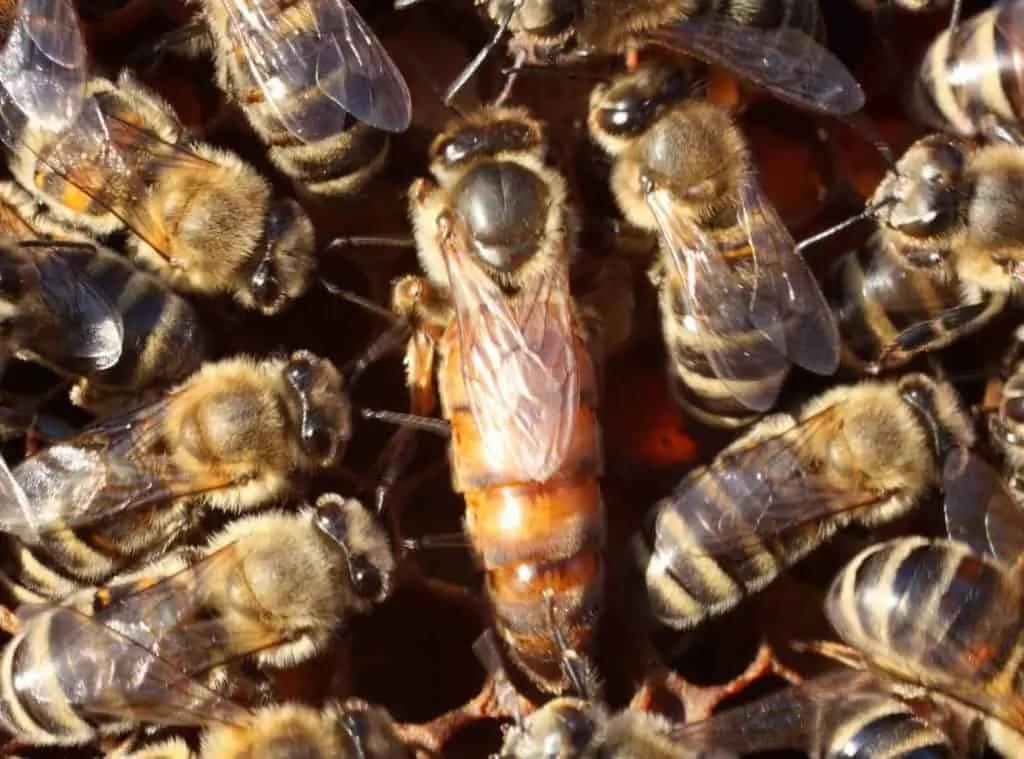Queen-Bee: (392, 107, 606, 691)
worker-bee: (0, 496, 393, 746), (588, 64, 838, 426), (0, 350, 351, 603), (632, 373, 974, 629), (0, 72, 316, 315), (157, 0, 411, 196), (824, 134, 1023, 373), (808, 537, 1023, 758)
